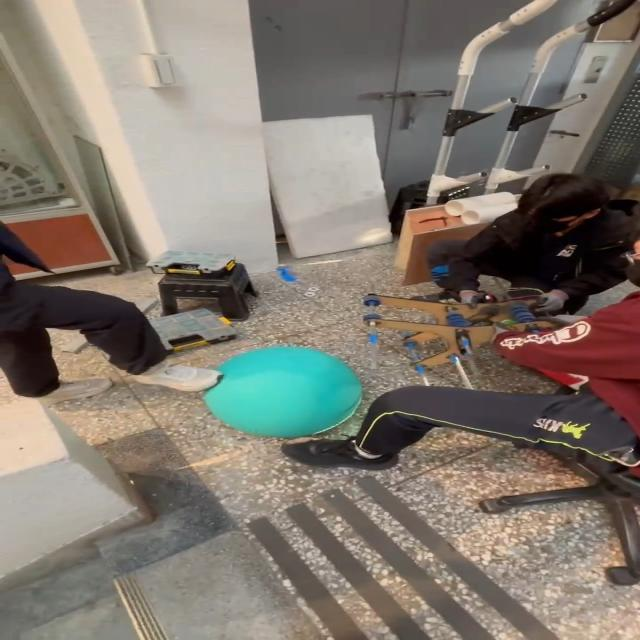ALGAE: (200, 344, 364, 438)
